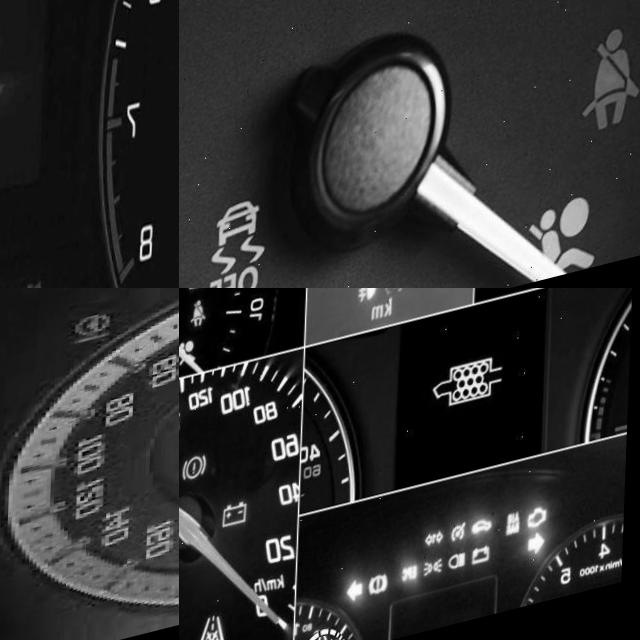Electronic Power Steering: (73, 317, 115, 358)
Seat Belt: (580, 52, 640, 164), (195, 309, 208, 337)
